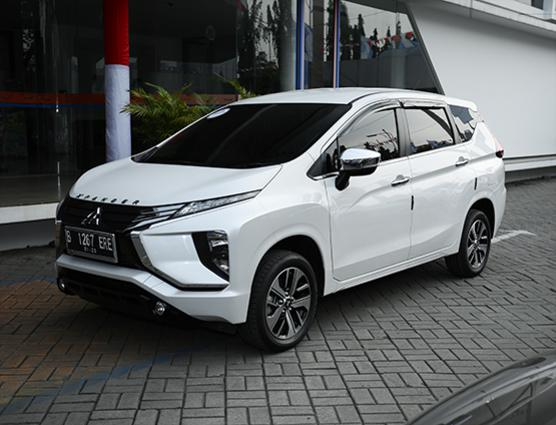plate: (64, 227, 115, 260)
